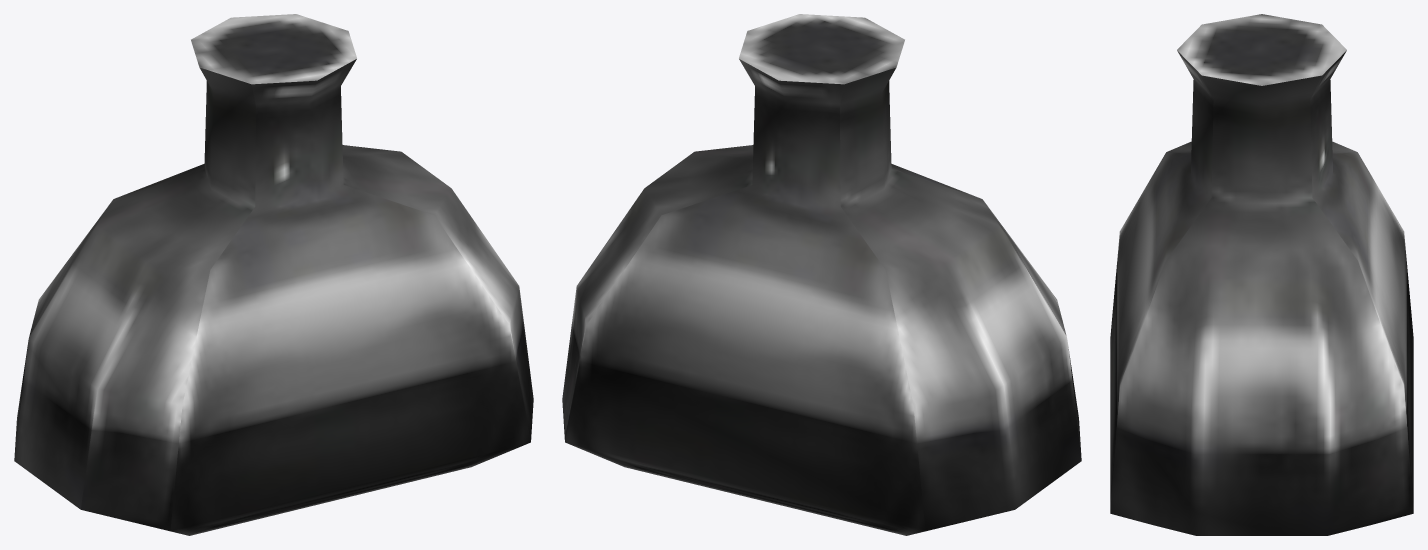
The model's file is pir_m_inv_pot_dye_bottle.fbx.
3 views of the same model, side by side, from view 1: azimuth 30°, elevation 25°; view 2: azimuth 150°, elevation 25°; view 3: azimuth 270°, elevation 25° (orthographic).
Parts seen in each view (by area): view 1: dye_bottle; view 2: dye_bottle; view 3: dye_bottle.
Part boxes in pixels (left/top/right/bottom): dye_bottle: left=14, top=14, right=533, bottom=535; dye_bottle: left=562, top=14, right=1081, bottom=535; dye_bottle: left=1110, top=14, right=1413, bottom=535.
Size of the model in its own units: 13.66 by 11.84 by 8.02.
1 material, 1 textured.
